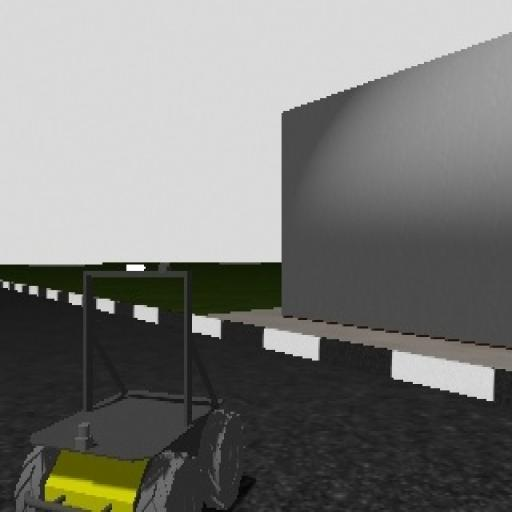huskya200: (22, 251, 239, 512)
